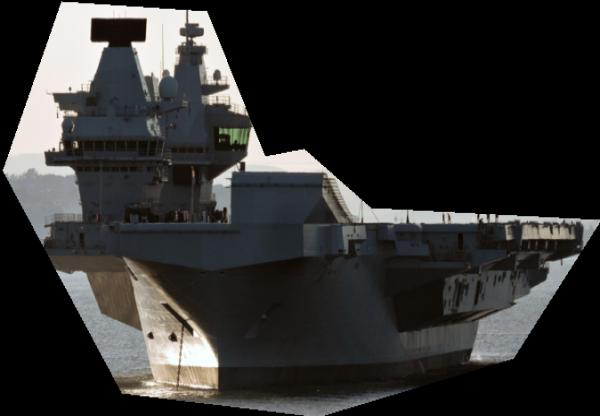Aircraft Carrier: (3, 1, 600, 416)
